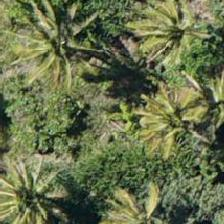coconut_tree: (4, 0, 94, 90), (135, 68, 223, 158), (124, 0, 214, 73), (0, 159, 73, 223), (94, 174, 184, 223)
